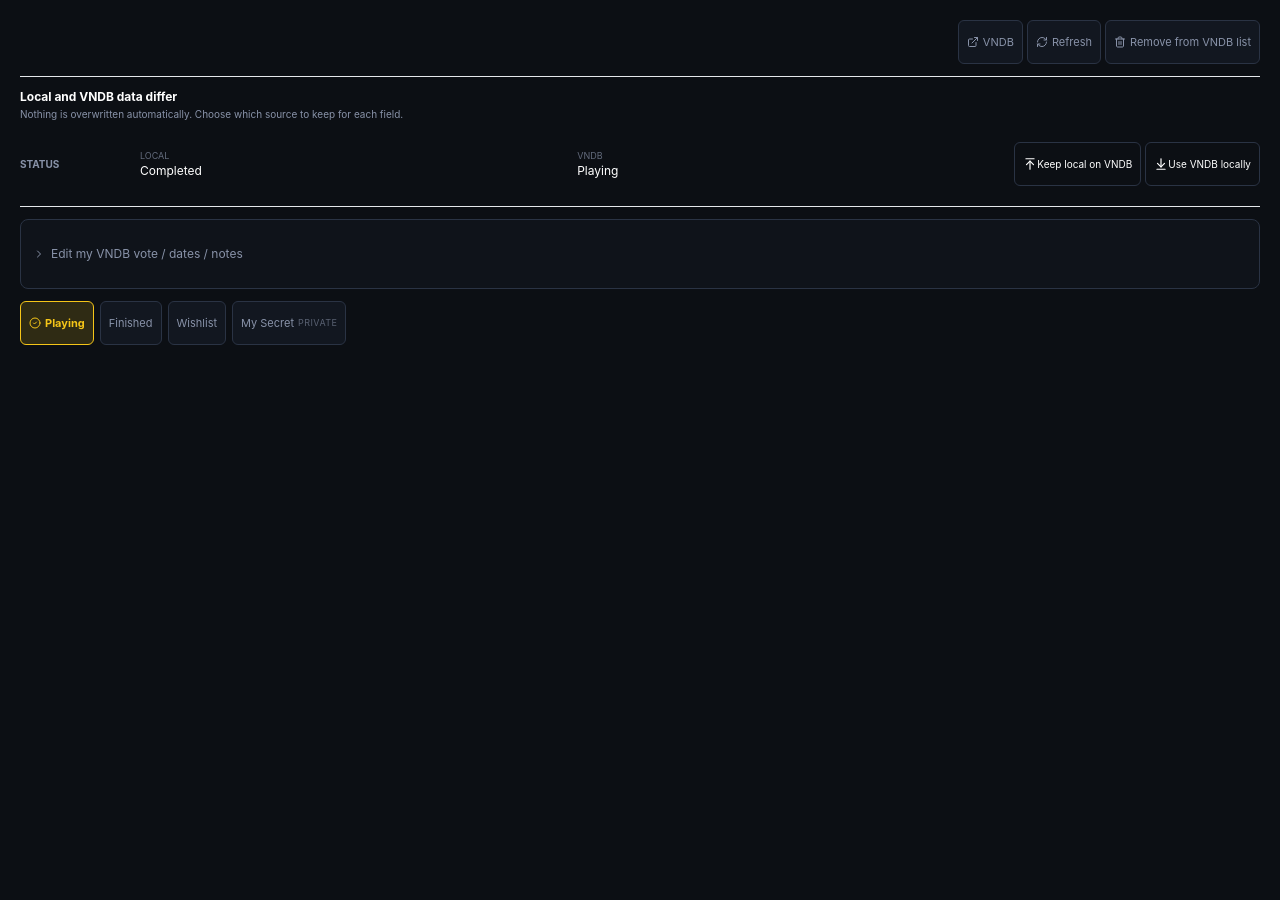
VndbStatusPanel branches › does not refresh after a conflict reload becomes stale
This screenshot has width=1280, height=900.
Click the button "Keep local on VNDB" at (1078, 164), box [1014, 142, 1141, 186]
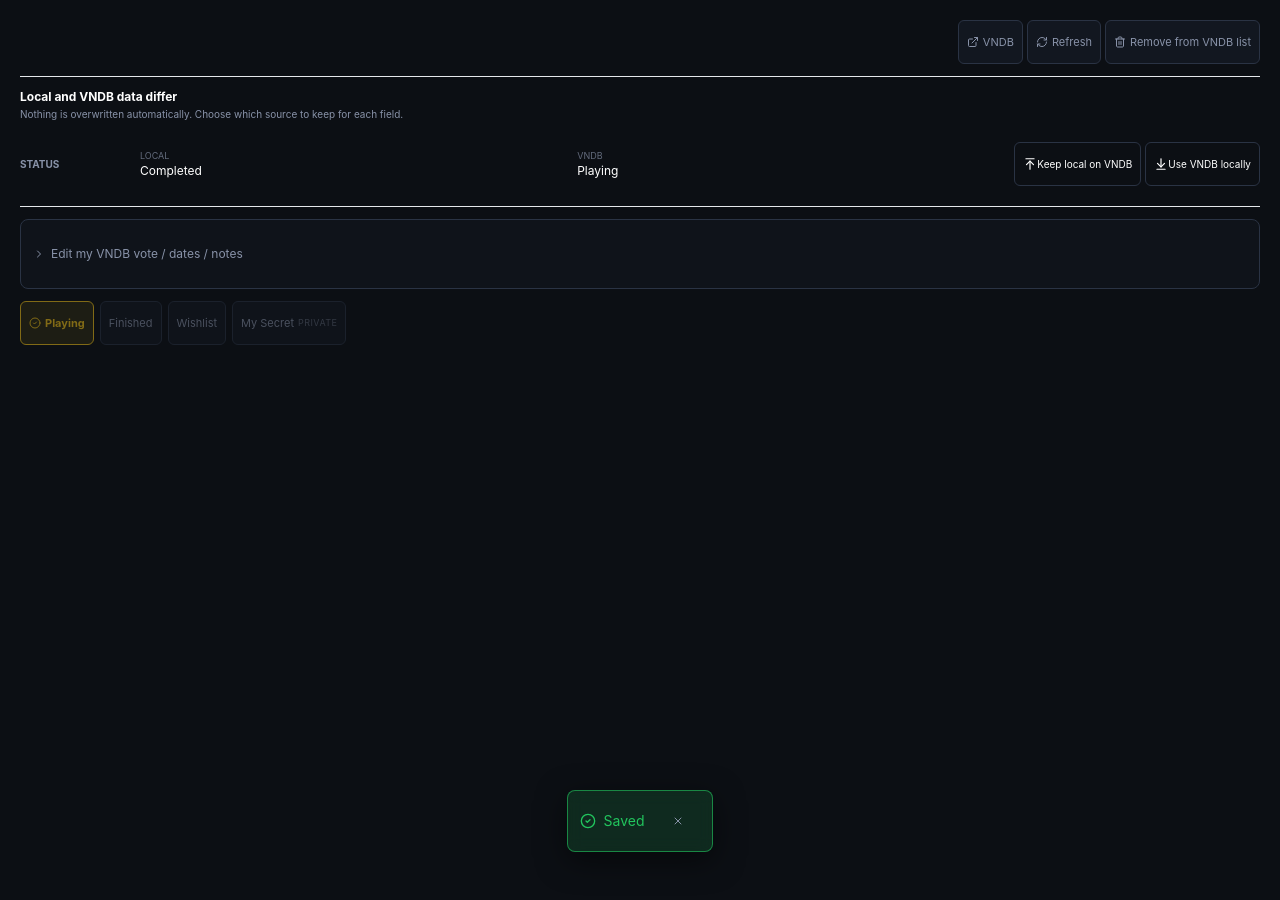
Check: the text "Saved" is shown, box [604, 811, 644, 831]
